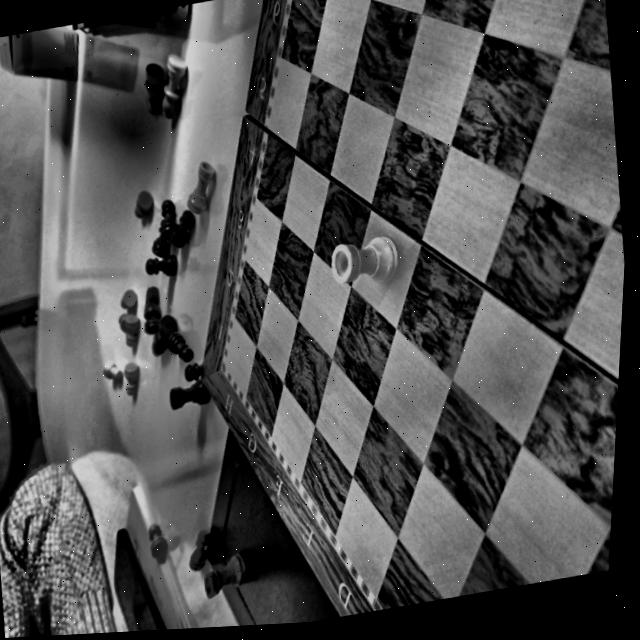white-rook: (319, 225, 408, 301)
